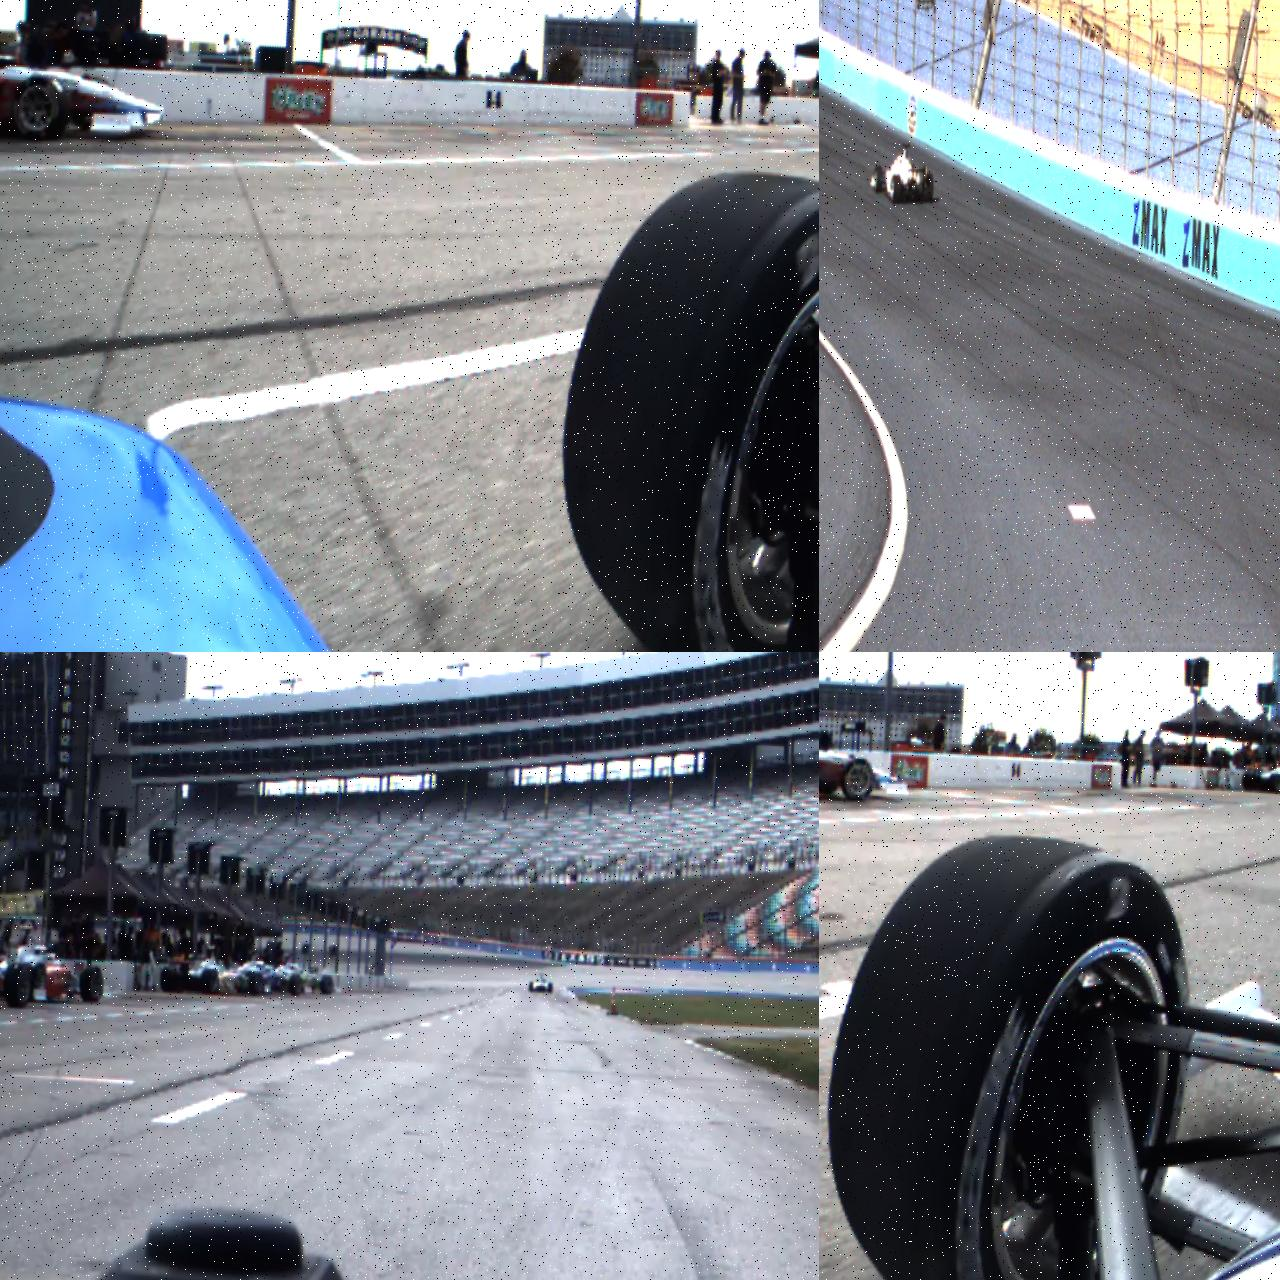AV: (0, 40, 165, 148), (819, 701, 913, 810), (159, 940, 266, 999), (869, 142, 935, 204), (527, 972, 553, 994)
Wheel: (819, 826, 1201, 1280), (549, 161, 819, 652), (15, 74, 68, 143), (840, 753, 874, 803), (4, 961, 34, 1008), (79, 966, 104, 1002), (199, 967, 218, 994), (159, 965, 175, 993), (247, 971, 264, 996), (890, 173, 901, 203), (922, 172, 934, 200), (288, 973, 302, 996), (319, 974, 334, 995), (872, 164, 883, 192), (527, 981, 532, 992), (547, 982, 552, 993)
